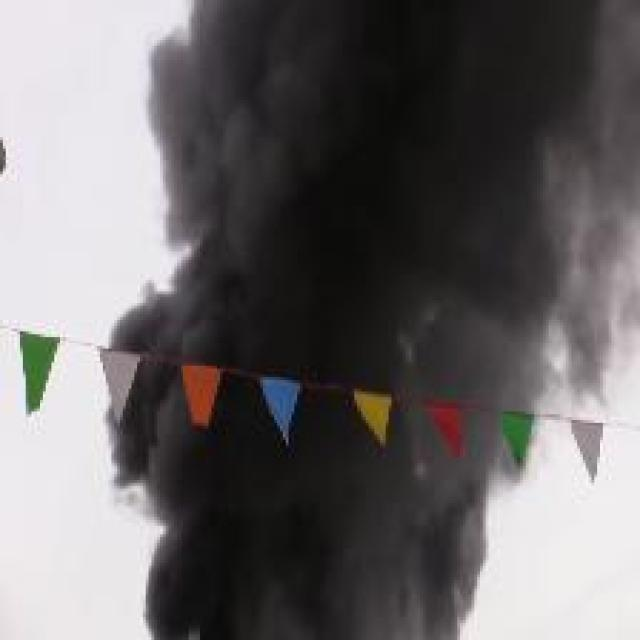smoke: (100, 0, 622, 634)
